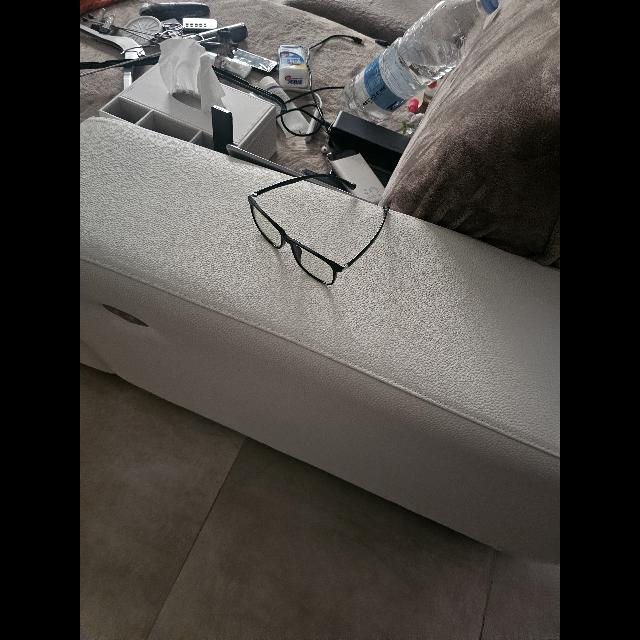glasses: (248, 173, 388, 285)
